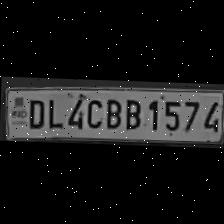1: (143, 96, 161, 131)
4: (198, 98, 220, 134), (63, 94, 83, 130)
5: (160, 96, 180, 132)
7: (180, 96, 198, 132)
B: (120, 95, 142, 131), (102, 94, 120, 130)
C: (83, 95, 103, 131)
D: (22, 96, 46, 130)
L: (44, 94, 62, 130)
